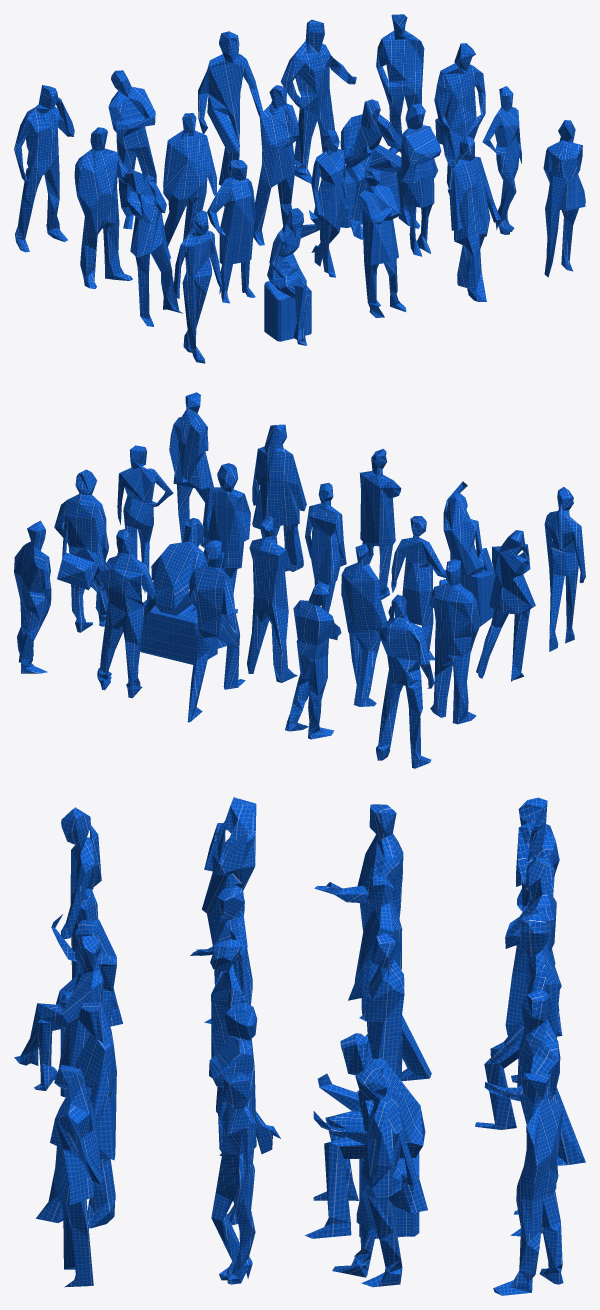
3 views of the same model, one above another, from view 1: azimuth 30°, elevation 25°; view 2: azimuth 150°, elevation 25°; view 3: azimuth 270°, elevation 25° (orthographic). The views are drawn at different scales.
Parts seen in each view (by area): view 1: Man01, Man06, Man09, Woman04, Man08, Man02, Woman06, Man05, Man03, Man04, Woman07, Woman05 (+10 smaller); view 2: Man09, Man01, Man05, Man06, Man08, Man03, Woman04, Man07, Man02, Woman06, Woman05, Woman01 (+10 smaller); view 3: Man05, Man04, Man10, Woman05, Woman10, Woman04, Man08, Man03, Woman06, Woman02, Woman01, Man09 (+9 smaller).
Part boxes in pixels (x1,y1,x2,y2): Man01: [74, 127, 154, 288]; Man06: [14, 85, 74, 252]; Man09: [280, 19, 356, 183]; Woman04: [449, 136, 500, 301]; Man08: [198, 31, 263, 185]; Man02: [163, 113, 216, 258]; Woman06: [124, 169, 182, 326]; Man05: [434, 43, 485, 195]; Man03: [253, 85, 299, 245]; Man04: [340, 99, 420, 239]; Woman07: [207, 160, 255, 303]; Woman05: [543, 120, 585, 277]; Man09: [95, 529, 156, 698]; Man01: [430, 559, 480, 724]; Man05: [54, 469, 108, 632]; Man06: [376, 594, 434, 768]; Man08: [187, 540, 245, 722]; Man03: [247, 516, 297, 682]; Woman04: [252, 424, 306, 571]; Man07: [285, 582, 341, 739]; Man02: [341, 543, 386, 706]; Woman06: [476, 530, 535, 681]; Woman05: [169, 392, 213, 548]; Woman01: [544, 487, 585, 651]; Man05: [332, 1064, 427, 1287]; Man04: [305, 1033, 425, 1238]; Man10: [493, 1073, 563, 1295]; Woman05: [50, 1065, 103, 1287]; Woman10: [211, 1071, 256, 1284]; Woman04: [36, 1002, 116, 1228]; Man08: [475, 913, 585, 1165]; Man03: [361, 933, 404, 1080]; Woman06: [202, 797, 256, 1023]; Woman02: [14, 914, 116, 1090]; Woman01: [60, 807, 122, 1026]; Man09: [484, 989, 560, 1236].
Bounding box in the file's own units: 464 × 178 × 377.
